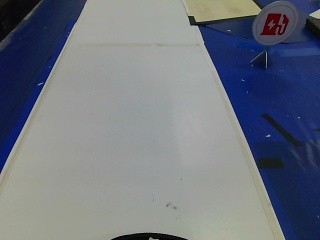battery: (251, 2, 298, 45)
